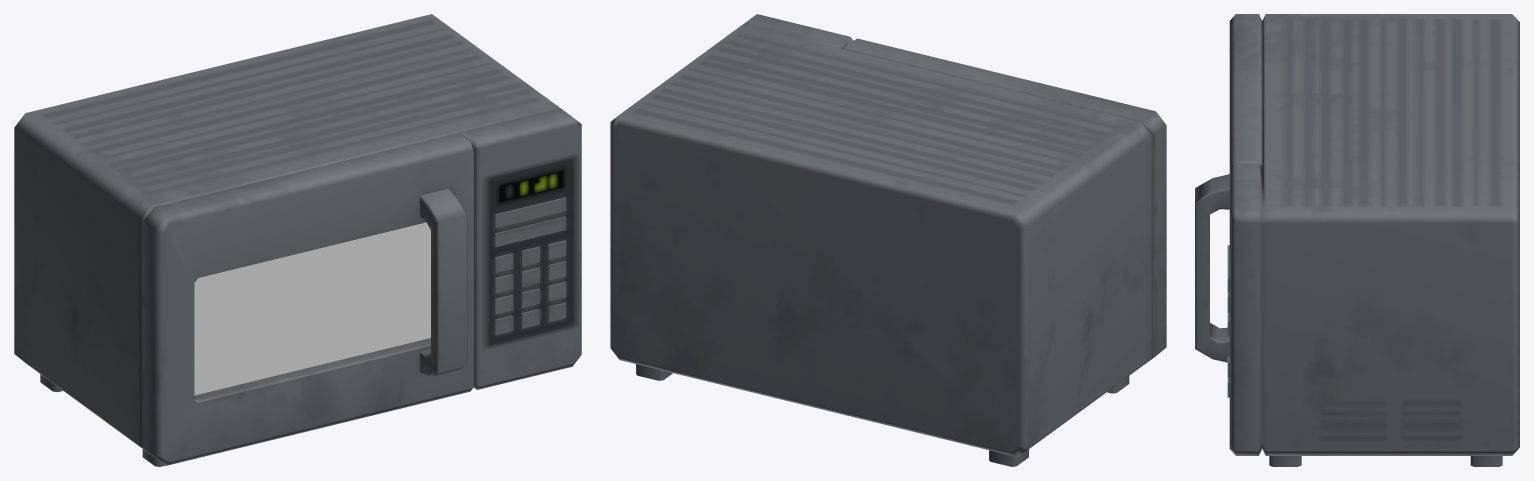
File: Microwave.fbx
3 views of the same model, side by side, from view 1: azimuth 30°, elevation 25°; view 2: azimuth 150°, elevation 25°; view 3: azimuth 270°, elevation 25° (orthographic).
Visible parts, largest first — view 1: Microwave, Microwave_Handle; view 2: Microwave, Microwave_Handle; view 3: Microwave, Microwave_Handle.
Boxes of the visible parts, bbox=[...] form: Microwave: bbox=[14, 14, 581, 466]; Microwave_Handle: bbox=[143, 133, 474, 465]; Microwave: bbox=[610, 14, 1151, 466]; Microwave_Handle: bbox=[843, 38, 1166, 364]; Microwave: bbox=[1227, 14, 1519, 466]; Microwave_Handle: bbox=[1195, 14, 1262, 362].
Size of the model in its own units: 0.7965 by 0.4746 by 0.5324.
Materials: 2 (1 with a texture image).
